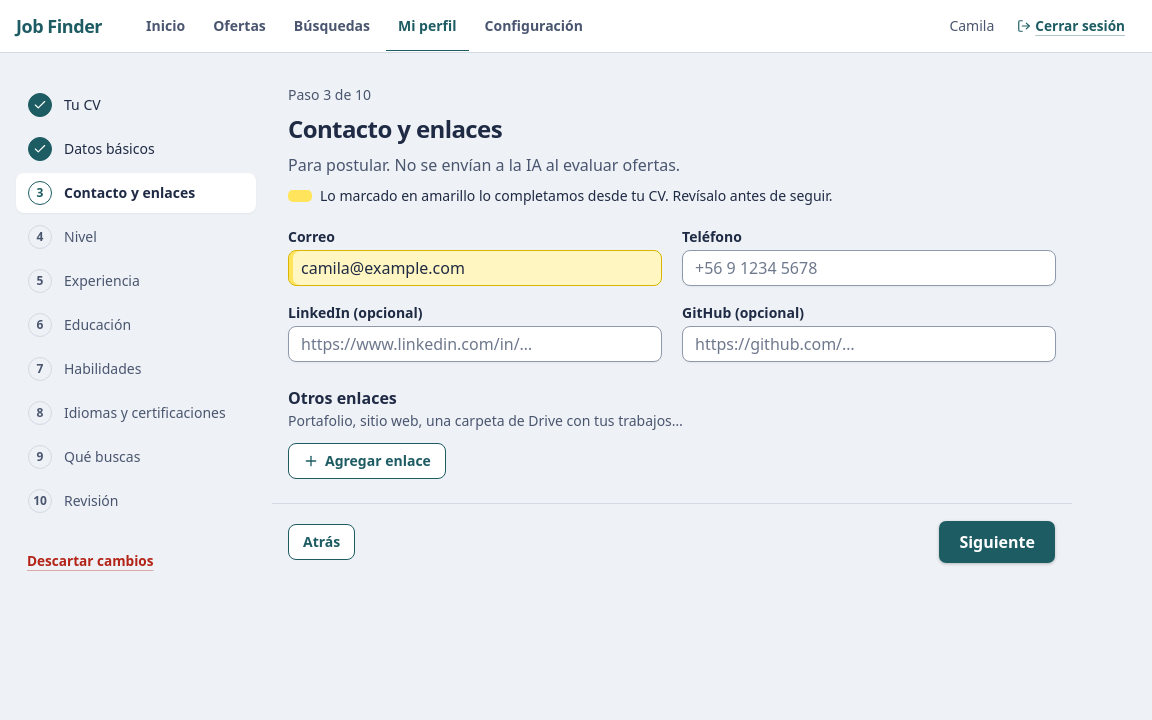
Mi perfil: wizard › no avanza si el paso tiene errores
Replace the text in the field labelled "Correo" with "no-es-correo" at (475, 268), box [288,250,662,286]
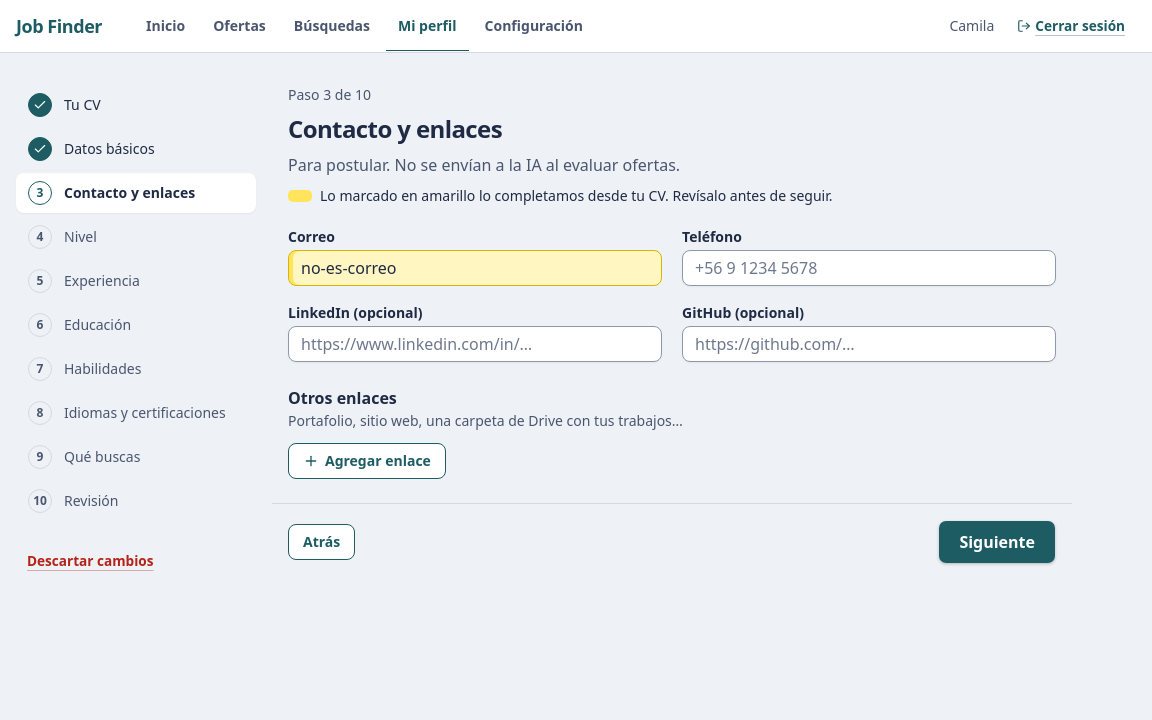
Click the button "Siguiente" at (997, 542), box [938,520,1056,564]
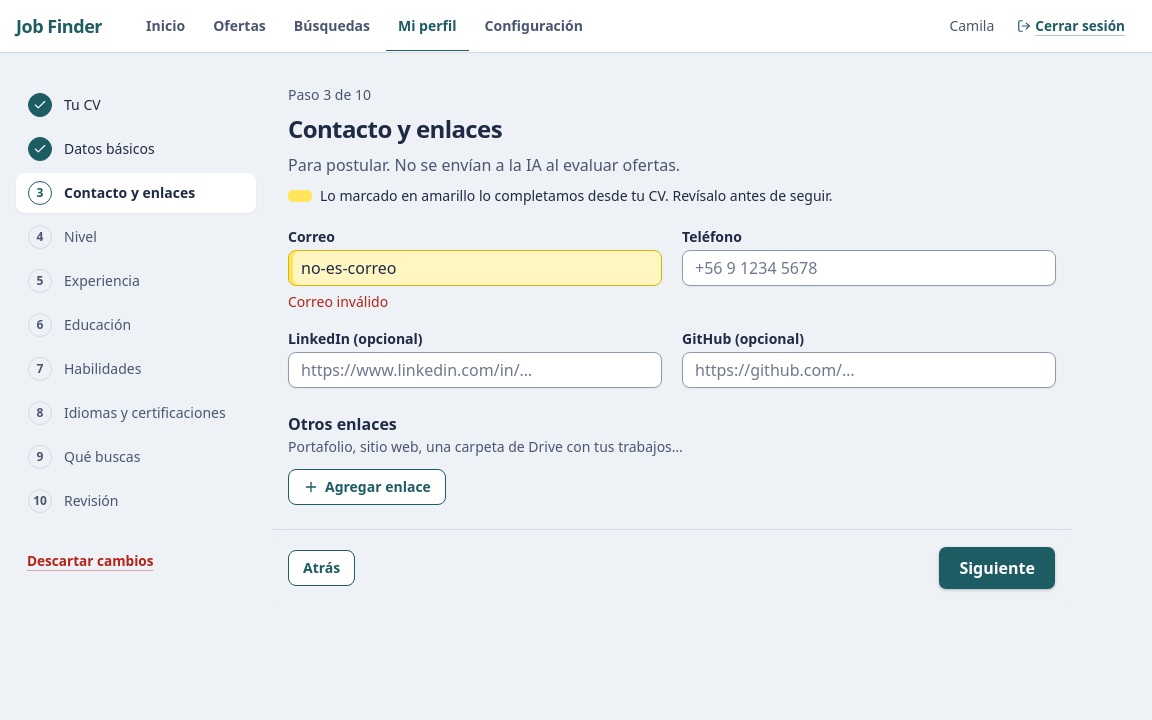
Expected: the text "Correo inválido" is shown, [288,292,388,311]
